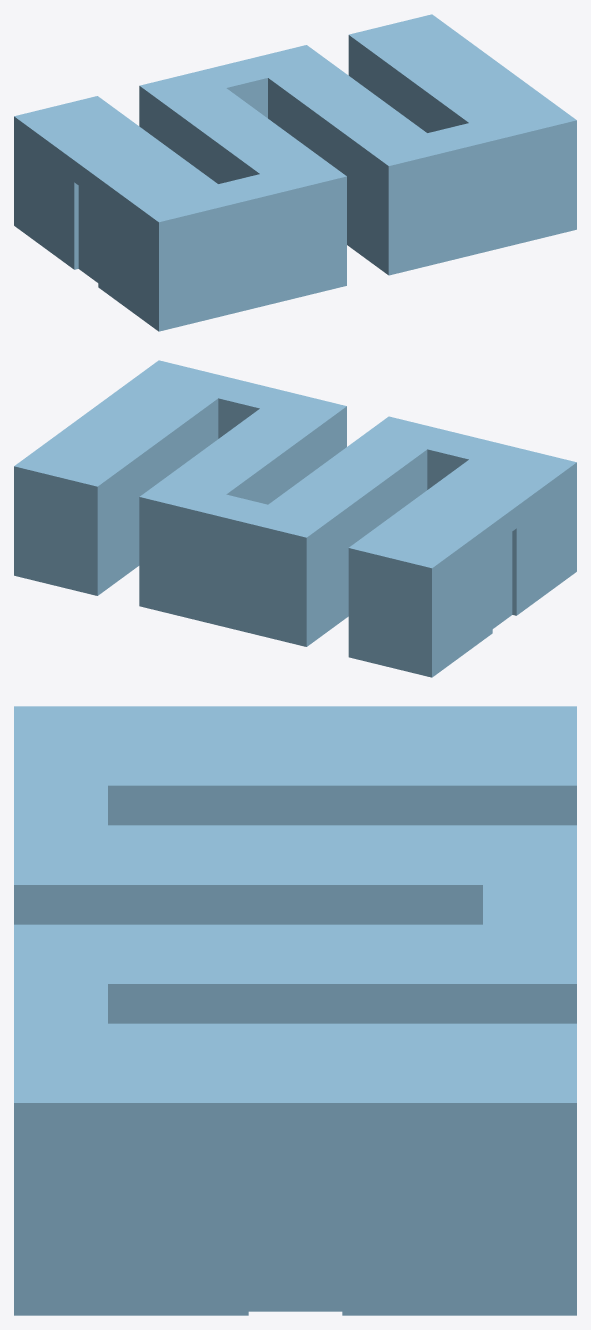
Rendered from 10x6_inner.dae.
3 views of the same model, one above another, from view 1: azimuth 30°, elevation 25°; view 2: azimuth 150°, elevation 25°; view 3: azimuth 270°, elevation 25° (orthographic). The views are drawn at different scales.
Parts seen in each view (by area): view 1: 5d15cf9f5e82991757211029; view 2: 5d15cf9f5e82991757211029; view 3: 5d15cf9f5e82991757211029.
Part boxes in pixels (box(x1,y1,x2,y2)): 5d15cf9f5e82991757211029: box(14, 14, 576, 331); 5d15cf9f5e82991757211029: box(14, 360, 576, 677); 5d15cf9f5e82991757211029: box(14, 706, 576, 1315).
Size of the model in its own units: 10 by 6 by 2.5.
